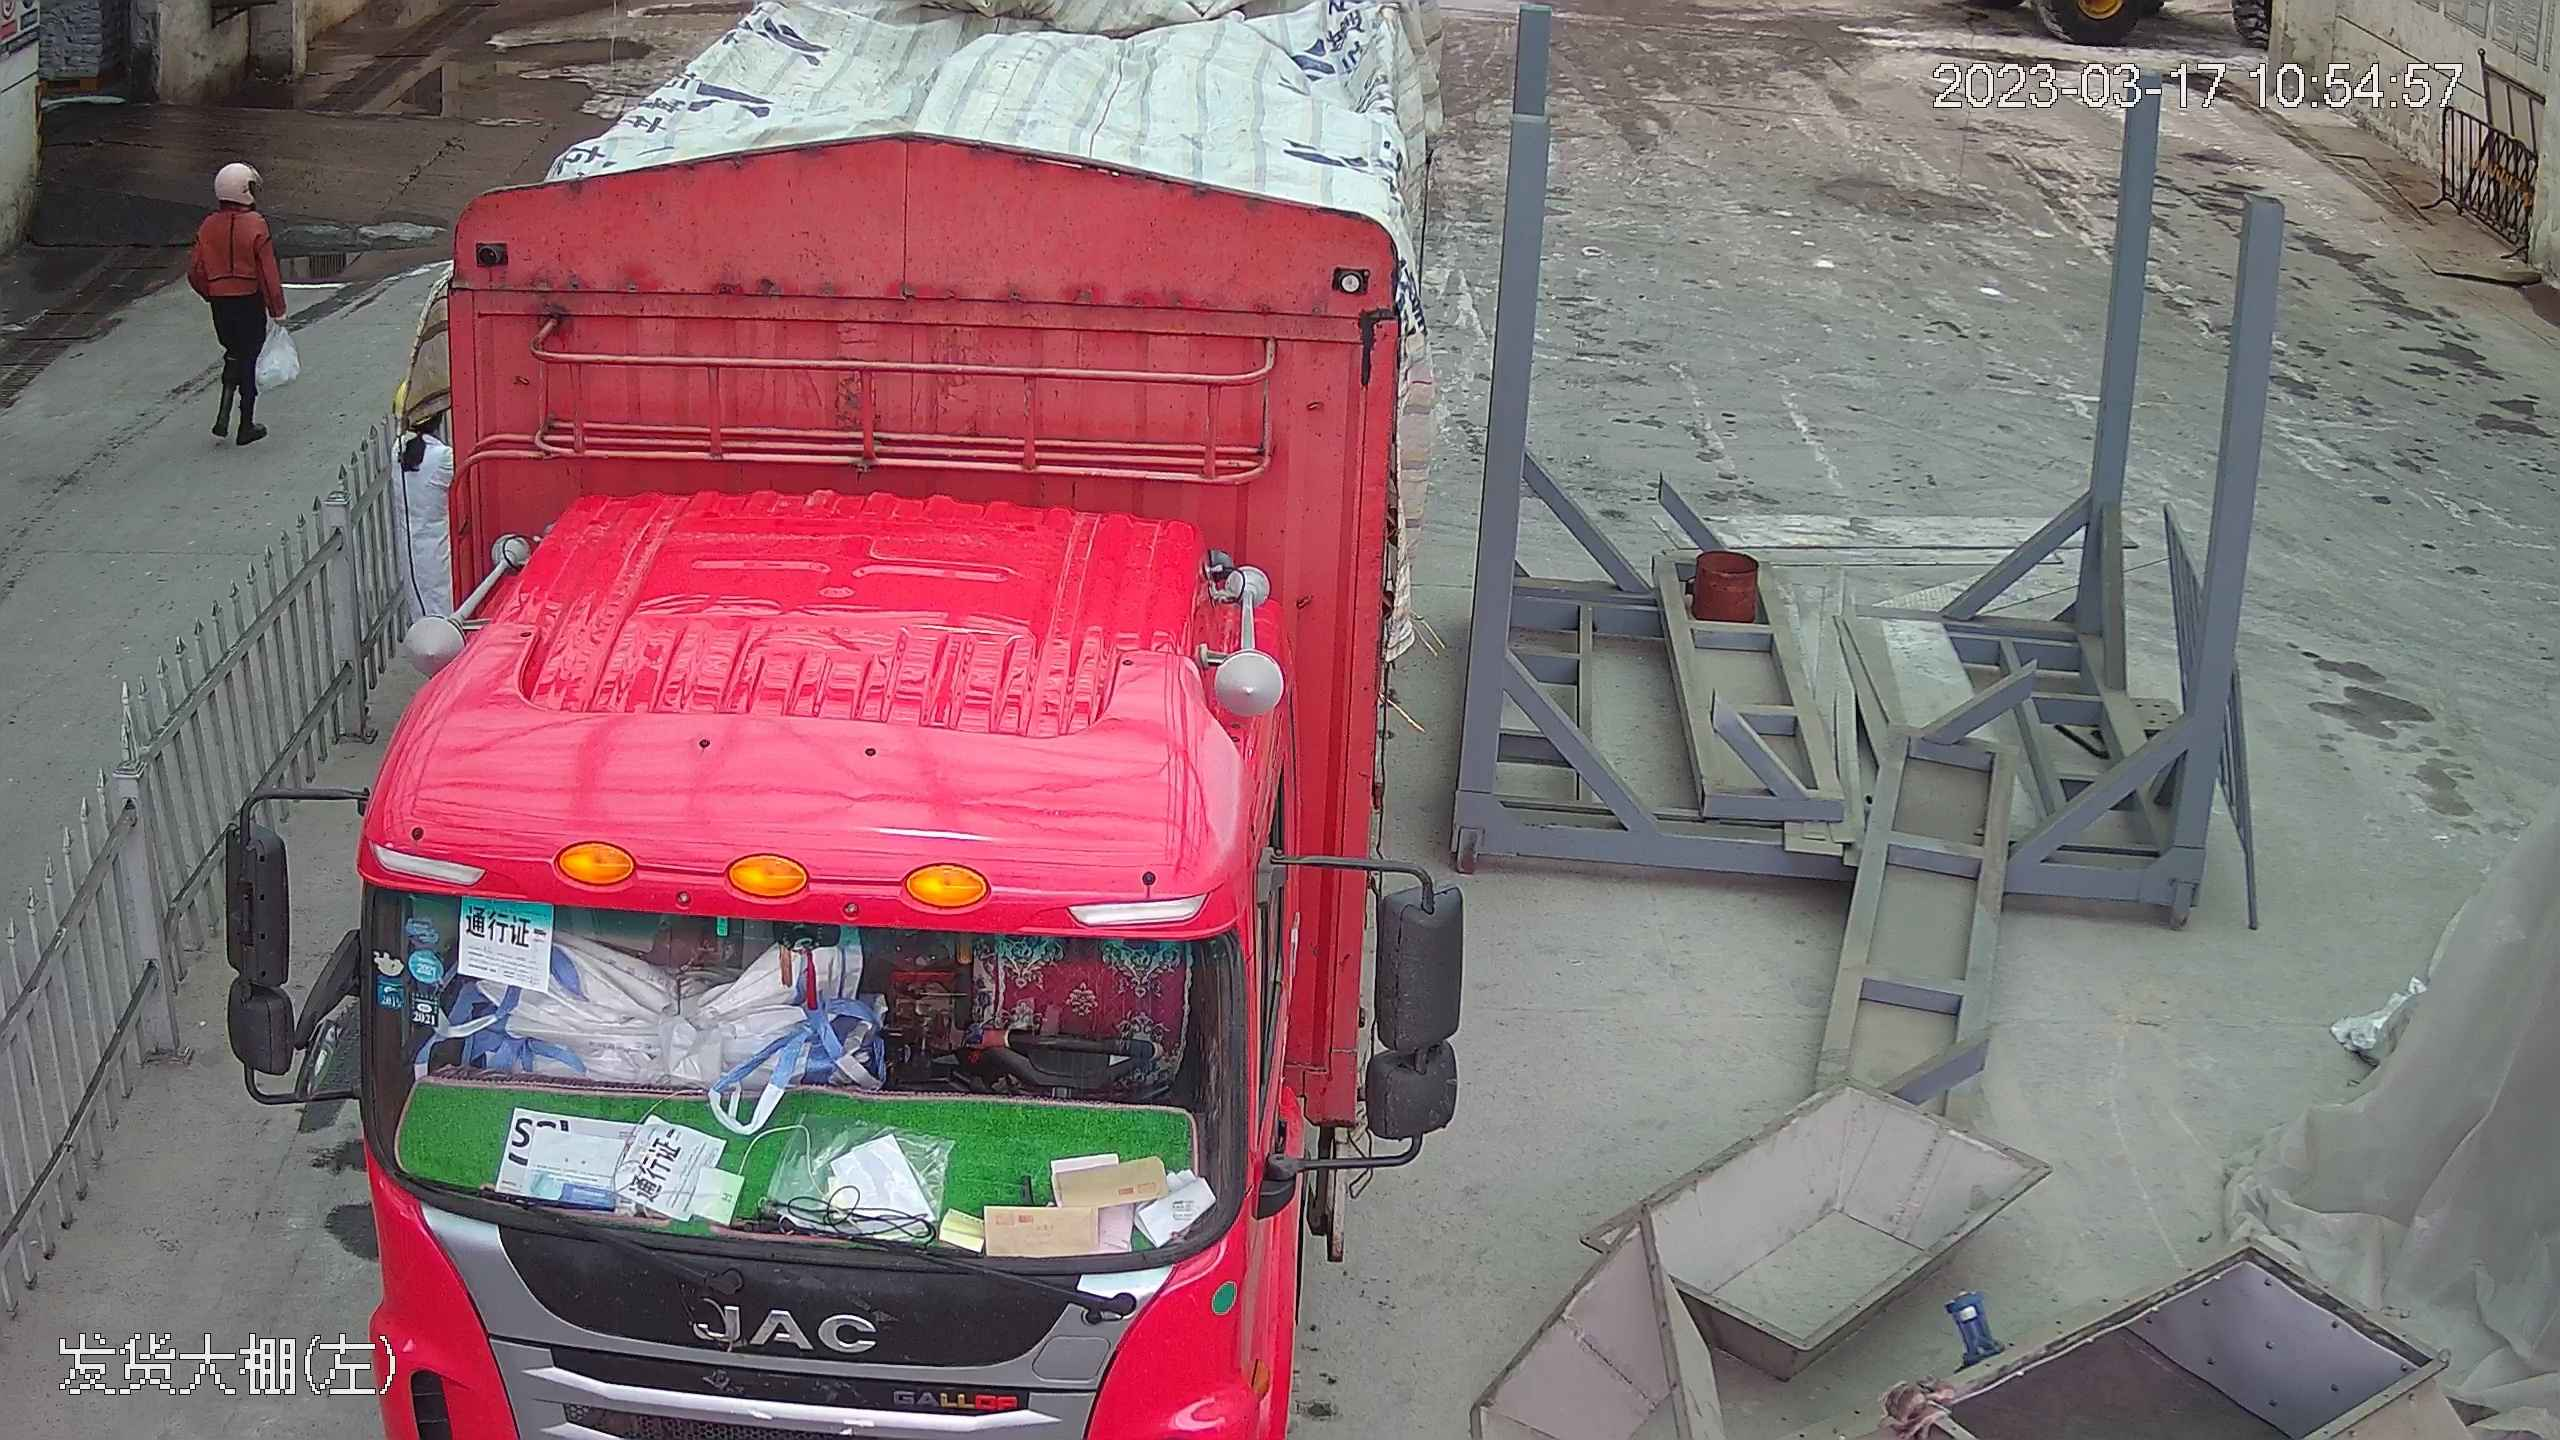head: (195, 160, 271, 246)
helmet: (212, 162, 256, 195)
people: (185, 154, 289, 441)
truck: (288, 30, 1495, 1439)
